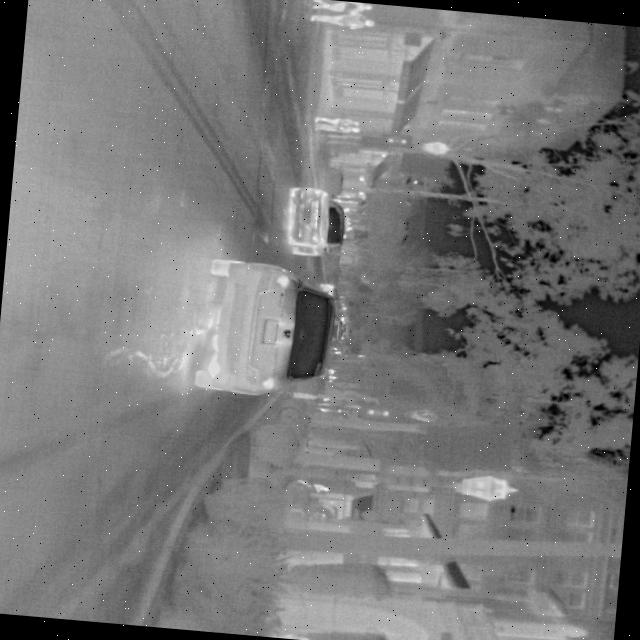Pedestrian: (307, 7, 377, 33), (310, 0, 373, 14), (310, 122, 360, 136), (312, 114, 361, 128), (293, 478, 330, 494)
Vehicle: (190, 254, 343, 404), (280, 184, 351, 259)
